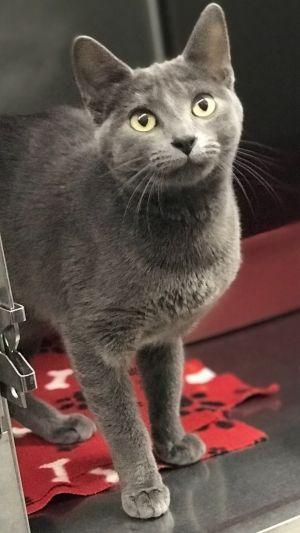rblue: (60, 1, 272, 200)
